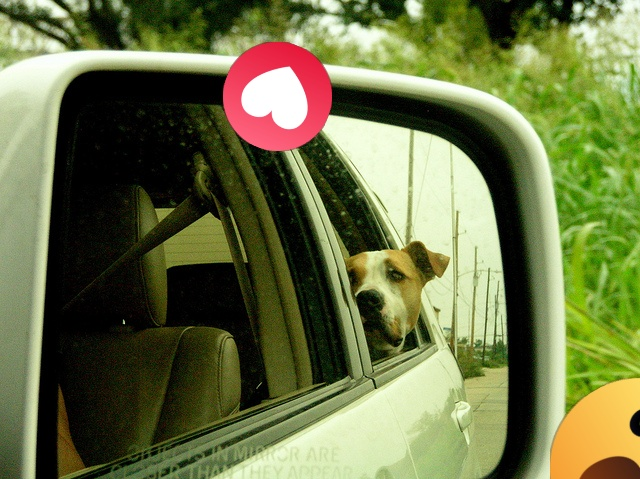love: (223, 42, 332, 151)
wow: (550, 378, 640, 479)
